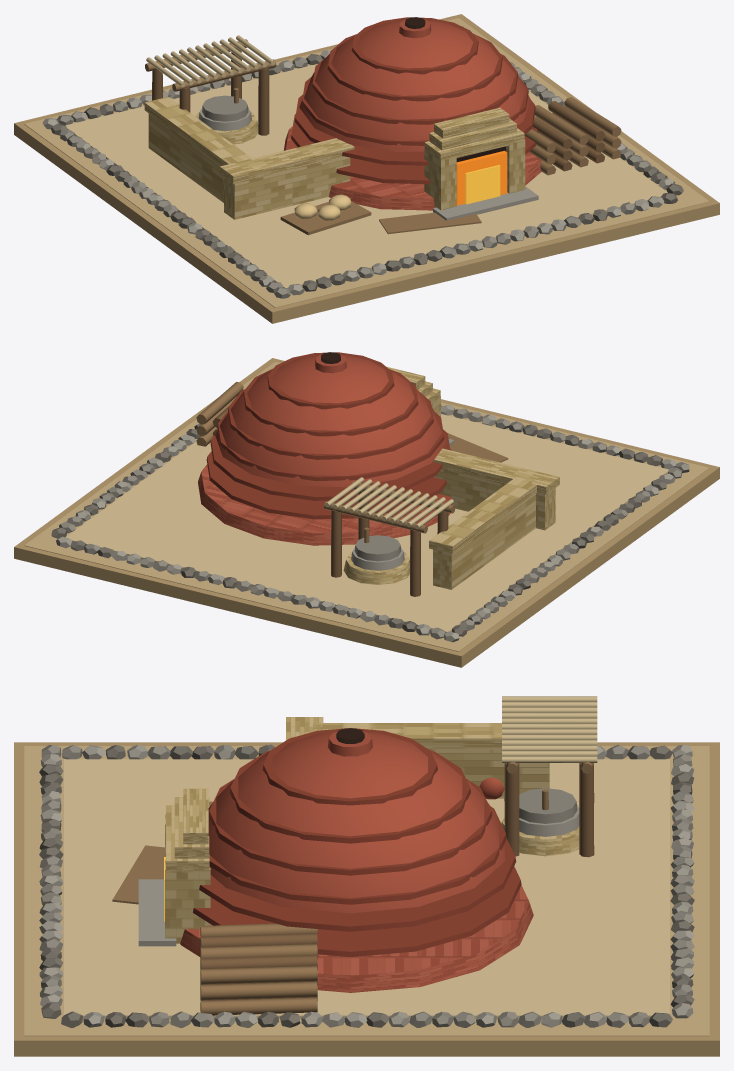
Rendered from civic-neolithic-bread-oven-built.glb.
The picture shows the model from 3 angles, top to bottom: view 1: azimuth 30°, elevation 25°; view 2: azimuth 150°, elevation 25°; view 3: azimuth 270°, elevation 25°; orthographic projection. The views are drawn at different scales.
Bounding box in the file's own units: 17 × 5.35 × 17.
24 materials, 7 textured.
